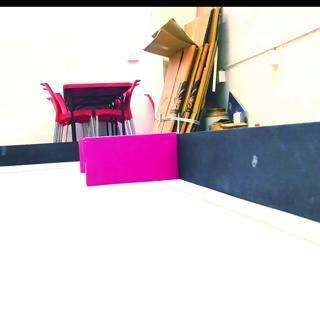xparking: (78, 133, 178, 187)
